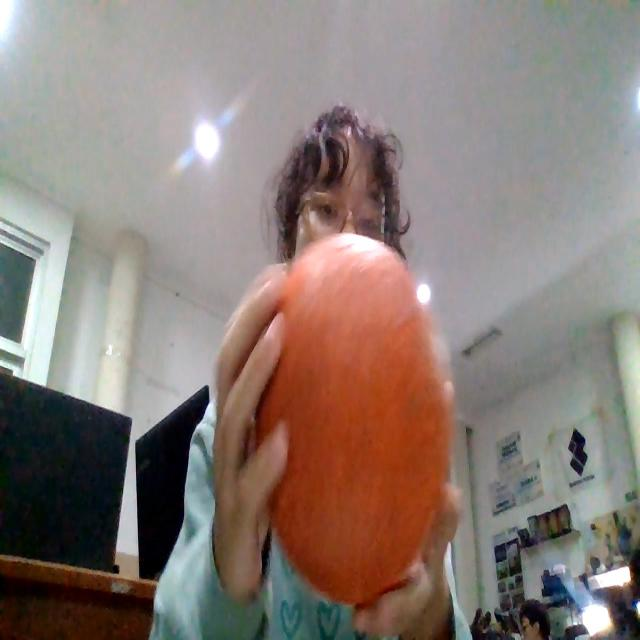ball: (252, 231, 453, 607)
